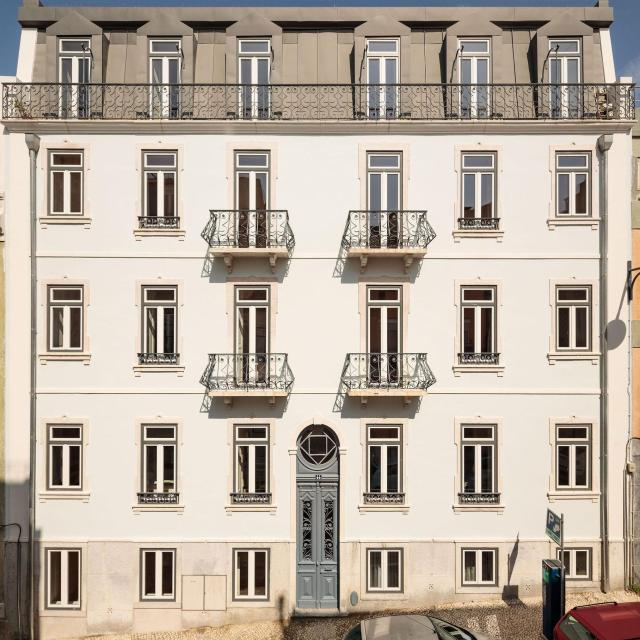Railing: (4, 79, 632, 116), (201, 209, 296, 251), (342, 210, 438, 250), (198, 352, 295, 389), (341, 352, 436, 389)
door: (295, 424, 337, 610)
wall: (1, 0, 633, 640)
windows: (234, 286, 269, 386), (234, 148, 268, 248), (369, 284, 402, 384), (368, 151, 401, 246), (140, 148, 176, 227), (458, 37, 492, 118), (548, 36, 582, 117), (146, 35, 178, 119), (55, 40, 89, 119), (462, 154, 498, 228), (366, 36, 399, 116), (462, 286, 495, 364), (238, 38, 269, 118), (143, 424, 178, 494), (556, 286, 591, 354), (49, 284, 84, 351), (368, 424, 402, 492), (48, 424, 82, 489), (557, 424, 591, 489), (144, 286, 177, 352), (47, 548, 82, 610), (463, 423, 494, 493), (236, 423, 267, 492), (51, 148, 82, 217), (557, 152, 590, 216), (139, 550, 175, 600), (235, 549, 267, 599), (366, 549, 401, 592), (462, 549, 498, 583), (557, 549, 592, 580)
